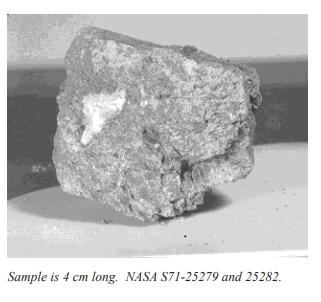Breccia: (1, 27, 282, 227)
